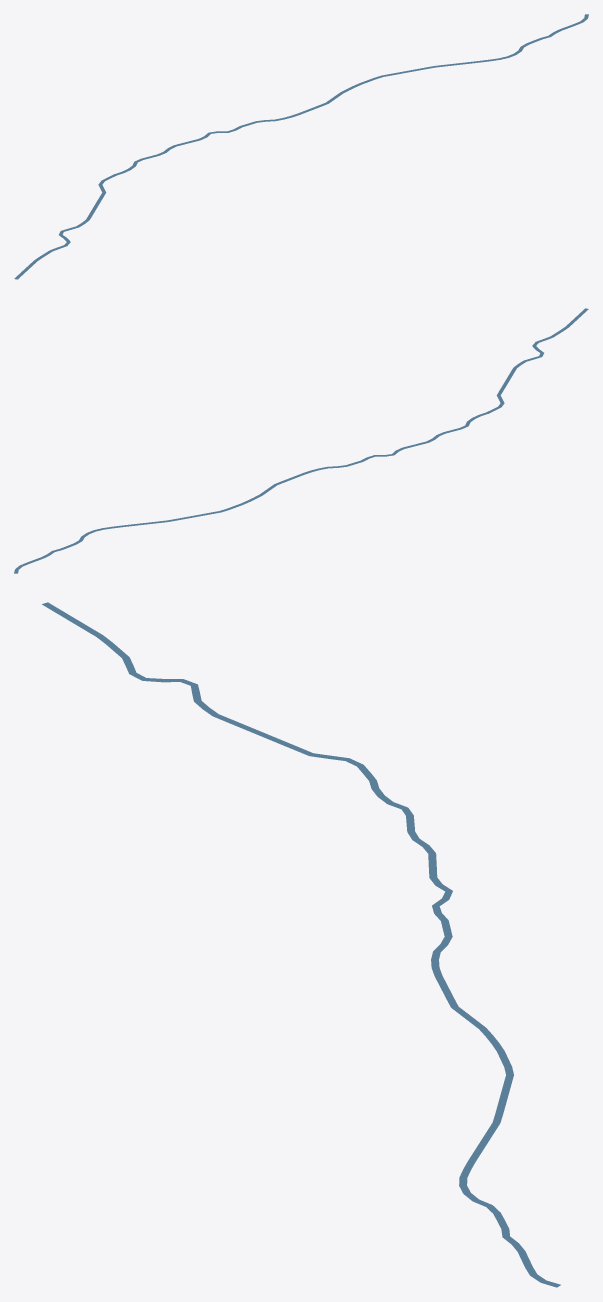
File: c_1651_17830_water.glb
3 renders of one model, top to bottom at view 1: azimuth 30°, elevation 25°; view 2: azimuth 210°, elevation 25°; view 3: azimuth 270°, elevation 25°, orthographic. The views are drawn at different scales.
Parts seen in each view (by area): view 1: geometry_0; view 2: geometry_0; view 3: geometry_0.
Boxes of the visible parts, left/top/right/bottom form: geometry_0: left=14, top=14, right=588, bottom=279; geometry_0: left=14, top=308, right=588, bottom=573; geometry_0: left=42, top=602, right=560, bottom=1287.
Bounding box in the file's own units: 506 × 0 × 162.
